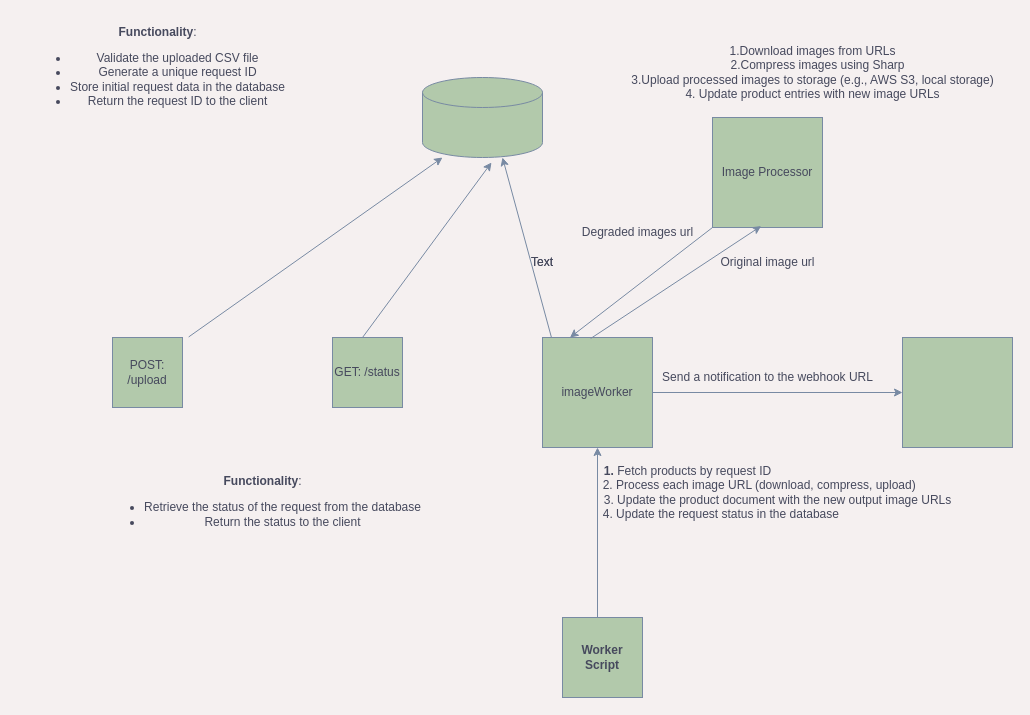
Image size: 1030x715. Some labels were removed from this diagram. Here are the shapes that lost their labels. From the top down, the centre of each, then its label:
At (482,117): "MYSQL DATABASE".
At (957,392): "/webhook".
